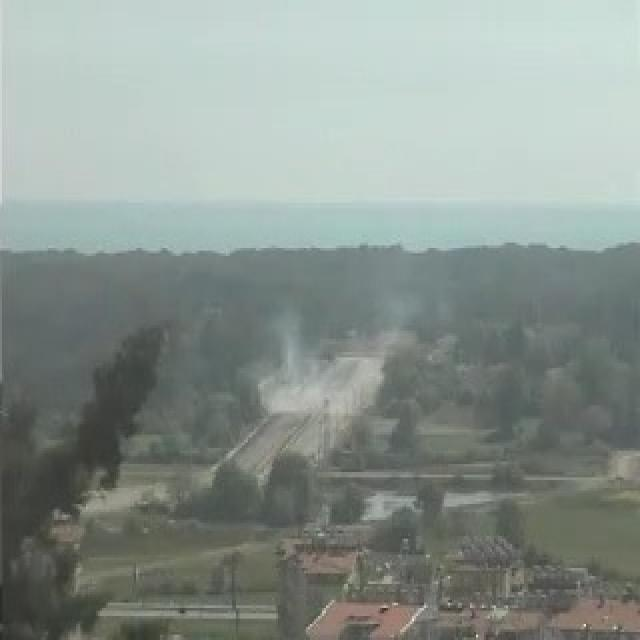smoke: (262, 308, 345, 410)
